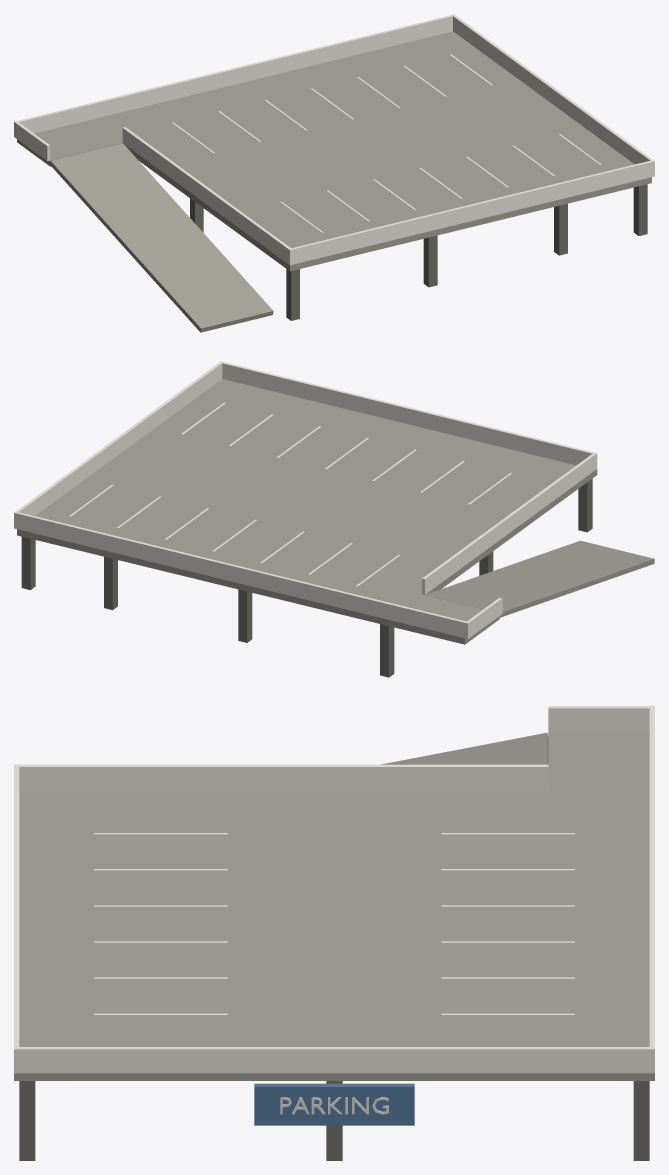
File: parking_garage.glb
3 renders of one model, top to bottom at view 1: azimuth 30°, elevation 25°; view 2: azimuth 150°, elevation 25°; view 3: azimuth 270°, elevation 25°, orthographic. The views are drawn at different scales.
Parts seen in each view (by area): view 1: parking_garage_Body; view 2: parking_garage_Body; view 3: parking_garage_Body, parking_garage_Sign.
Part boxes in pixels (x1,y1,x2,y2): parking_garage_Body: (14, 14, 654, 332); parking_garage_Body: (14, 361, 654, 677); parking_garage_Body: (14, 706, 654, 1160); parking_garage_Sign: (280, 1097, 388, 1114).
Bounding box in the file's own units: 30.81 × 5.1 × 24.
